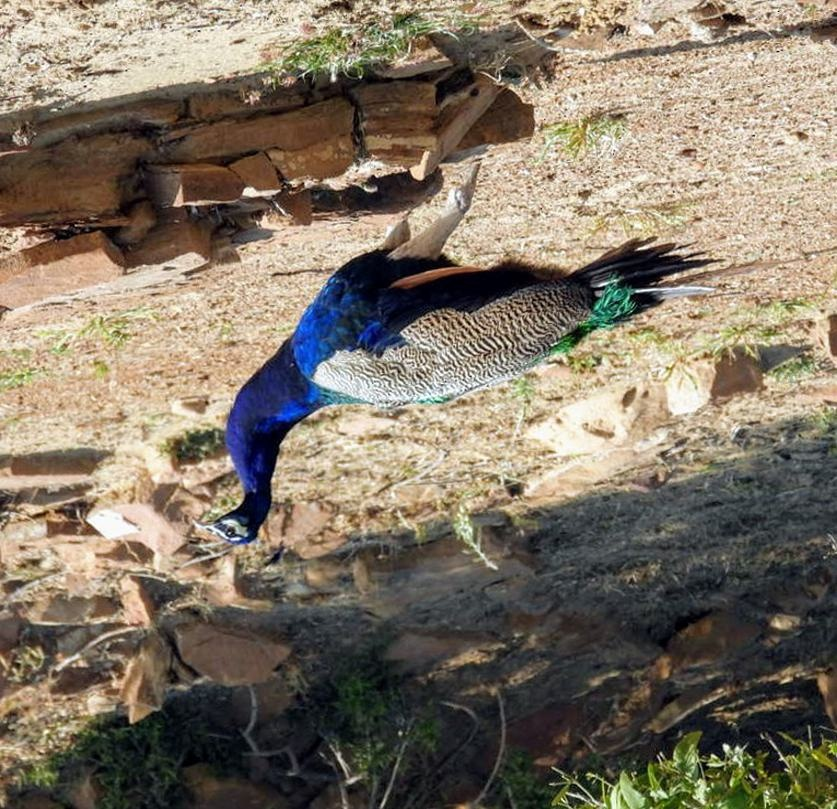peacock: (204, 178, 712, 574)
